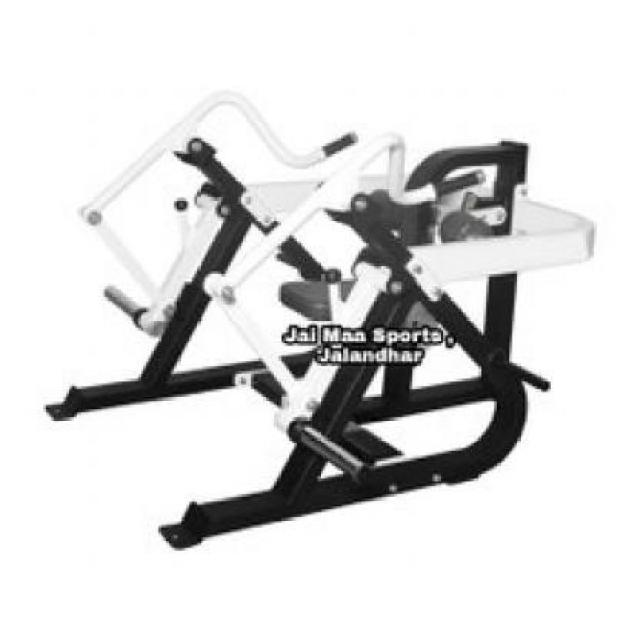seated dip machine: (43, 90, 594, 556)
